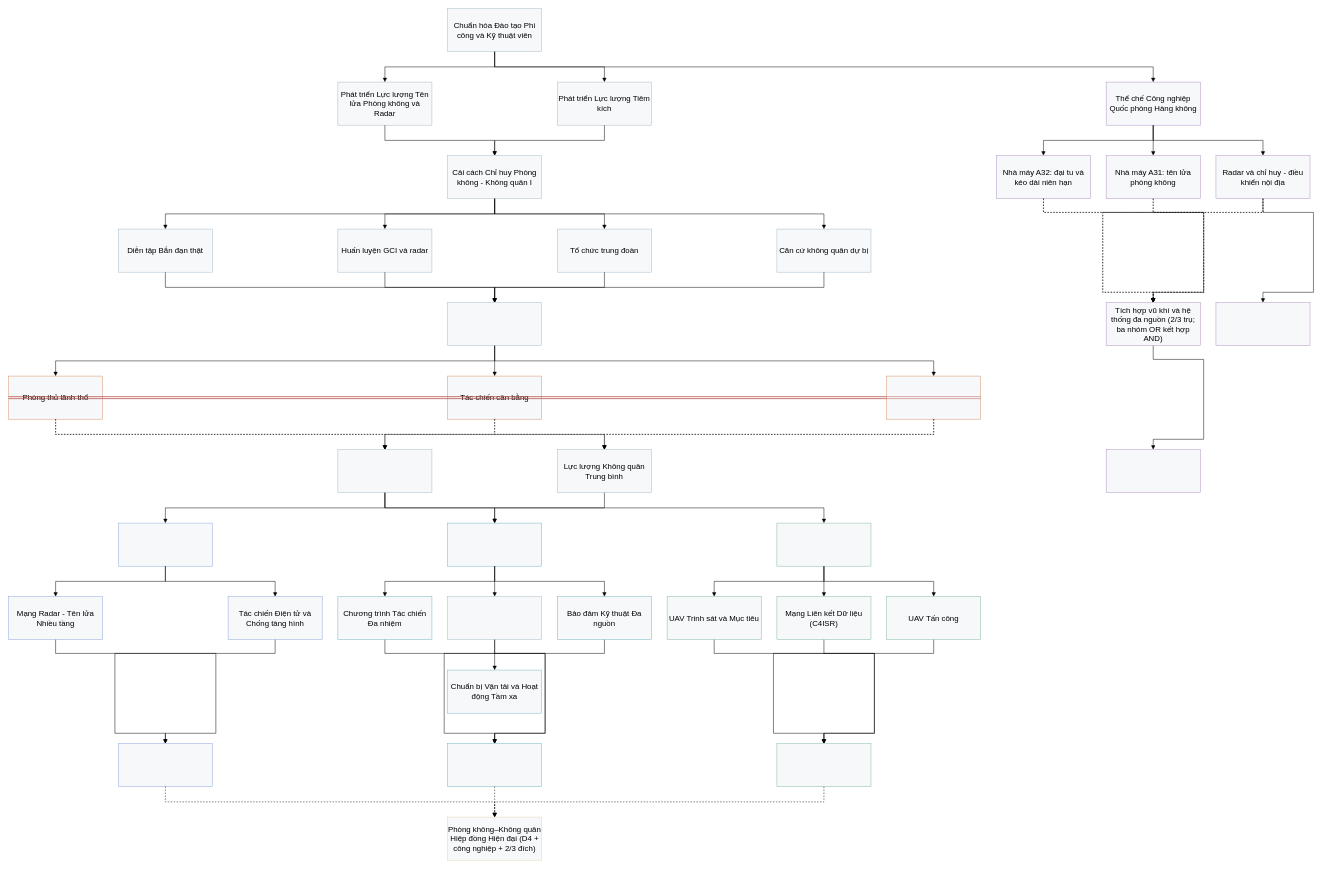
The diagram is 1326 pixels wide and 869 high, and some of its shapes have lost their labels. The shapes that lost their labels are listed below. From the top down, each one's centre as x and y in pixels, then its label:
pixel 494 324: Củng cố lực lượng nòng cốt
pixel 1262 324: Chương trình UAV nội địa
pixel 933 397: Cơ động và hoạt động tầm xa
pixel 384 471: Cải cách Chỉ huy Phòng không - Không quân II
pixel 1153 471: Công nghiệp hàng không - phòng không trưởng thành (tích hợp bậc 2 + 3/4 trụ)
pixel 165 544: Phòng không Tích hợp
pixel 494 544: Không quân Đa nhiệm
pixel 823 544: Không người lái và Mạng hóa
pixel 494 618: Mở rộng Bán kính Hoạt động và Căn cứ Tiền phương
pixel 165 765: Bộ Chỉ huy Phòng không Khu vực
pixel 494 765: Cánh Không quân Đa nhiệm
pixel 823 765: Phối hợp Có người - Không người
